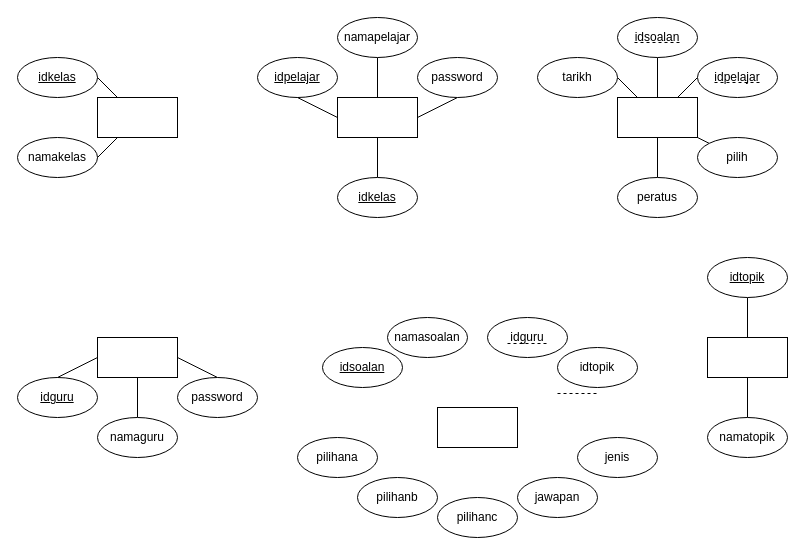
Image size: 805x555. Some labels were removed from this diagram. Here are the shapes that lost their labels. From the top down, the centre of each, then its label:
the point at 137,117: KELAS
the point at 377,117: PELAJAR
the point at 657,117: KUIZ
the point at 137,357: GURU
the point at 747,357: TOPIK
the point at 477,427: SOALAN
